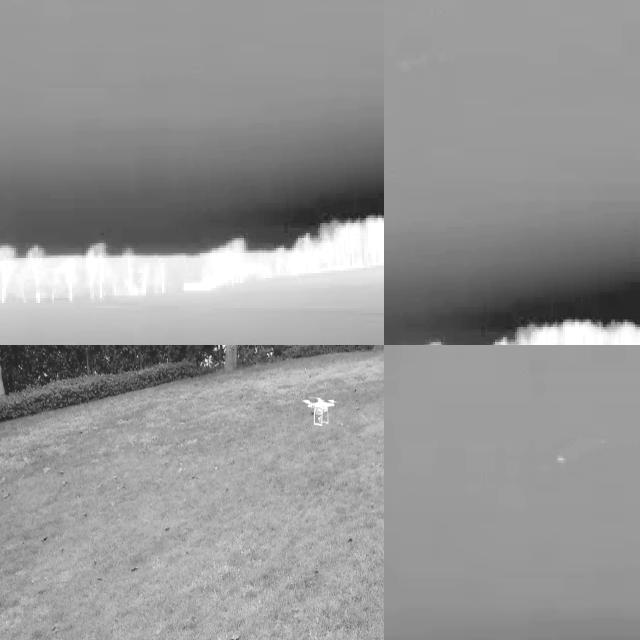0: (547, 450, 569, 474)
drone: (302, 393, 338, 431)
